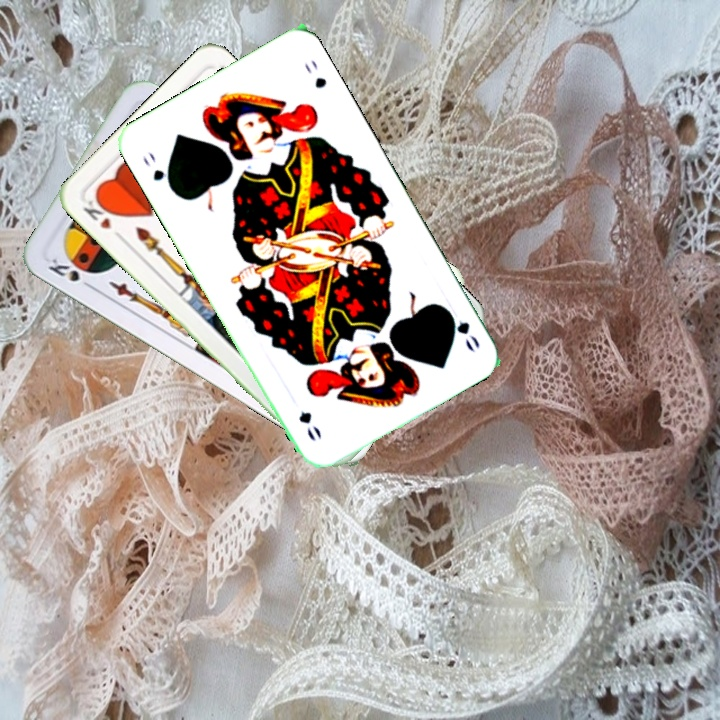GO: (440, 303, 483, 355), (138, 148, 177, 195)
HK: (79, 192, 127, 244)
SK: (44, 253, 97, 293)
